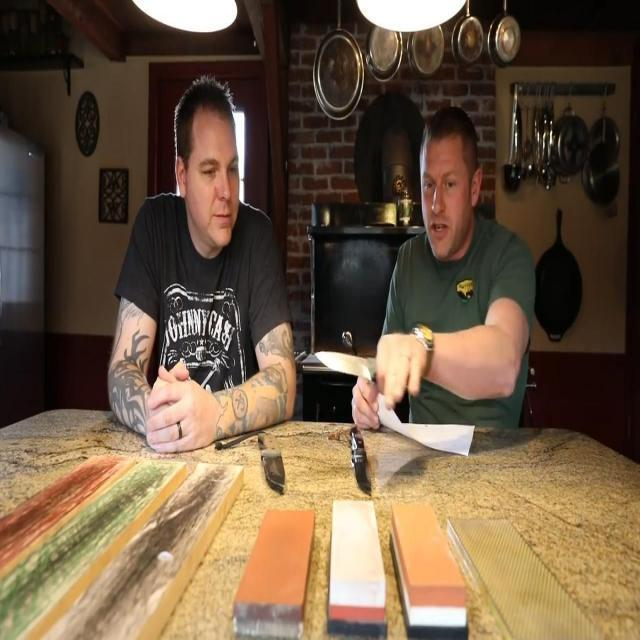faca: (309, 322, 419, 412)
